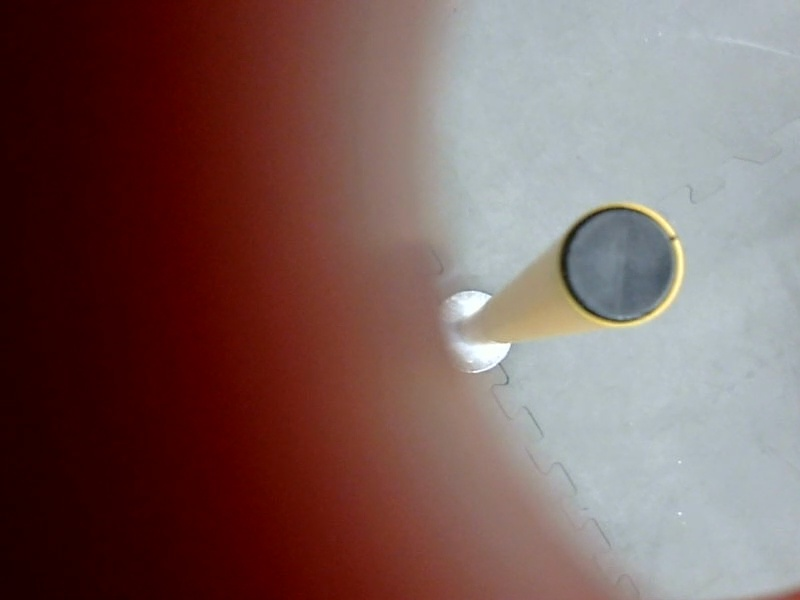tip: (552, 192, 689, 337)
